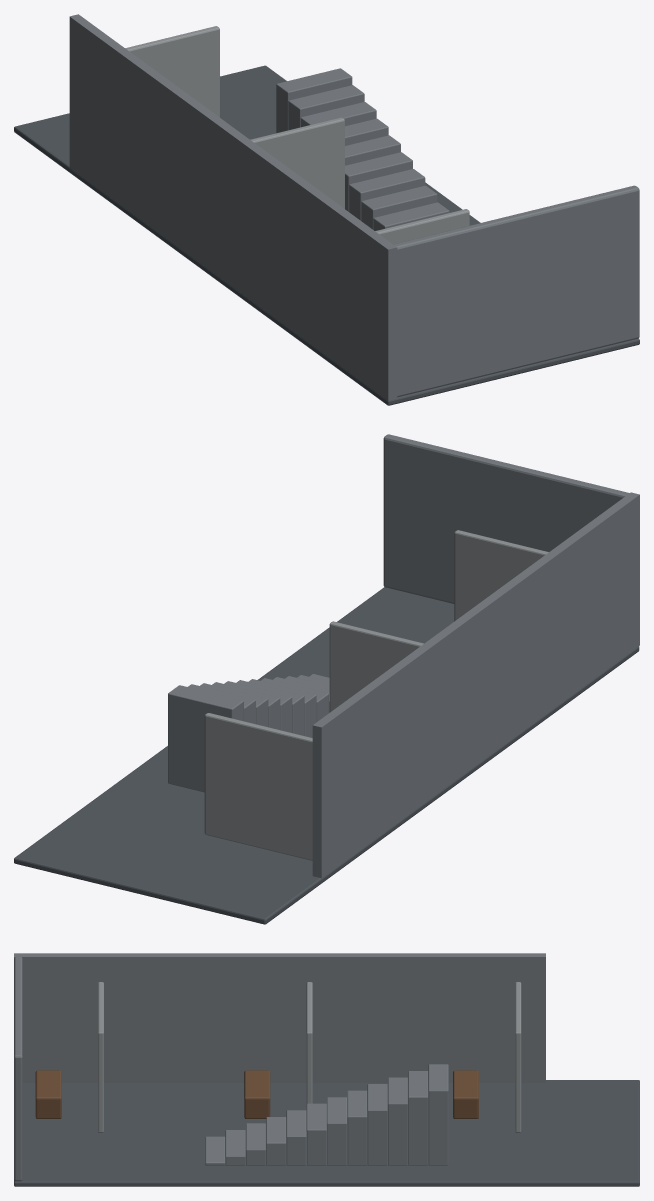
File: north-wing.glb
3 views of the same model, one above another, from view 1: azimuth 30°, elevation 25°; view 2: azimuth 150°, elevation 25°; view 3: azimuth 270°, elevation 25° (orthographic). The views are drawn at different scales.
Visible parts, largest first — view 1: VIS_NORTH_WING_OUTER_WALL_B, VIS_NORTH_WING_FRONT_WALL, VIS_NORTH_WING_FLOOR, VIS_NORTH_WING_ROOM_DIVIDER_-9, VIS_NORTH_WING_ROOM_DIVIDER_-21, NO_SHADOW_NORTH_WING_STAIR_00, NO_SHADOW_NORTH_WING_STAIR_06, NO_SHADOW_NORTH_WING_STAIR_01, NO_SHADOW_NORTH_WING_STAIR_07, VIS_NORTH_WING_ROOM_DIVIDER_3, NO_SHADOW_NORTH_WING_STAIR_05, NO_SHADOW_NORTH_WING_STAIR_04 (+3 smaller); view 2: VIS_NORTH_WING_OUTER_WALL_B, VIS_NORTH_WING_FLOOR, VIS_NORTH_WING_FRONT_WALL, VIS_NORTH_WING_ROOM_DIVIDER_-21, NO_SHADOW_NORTH_WING_STAIR_00, VIS_NORTH_WING_ROOM_DIVIDER_-9, VIS_NORTH_WING_ROOM_DIVIDER_3, NO_SHADOW_NORTH_WING_STAIR_05, NO_SHADOW_NORTH_WING_STAIR_06, NO_SHADOW_NORTH_WING_STAIR_04, NO_SHADOW_NORTH_WING_STAIR_03; view 3: VIS_NORTH_WING_OUTER_WALL_B, VIS_NORTH_WING_FLOOR, NO_SHADOW_NORTH_WING_STAIR_00, VIS_NORTH_WING_FRONT_WALL, NO_SHADOW_NORTH_WING_STAIR_01, NO_SHADOW_NORTH_WING_STAIR_02, NO_SHADOW_NORTH_WING_STAIR_03, NO_SHADOW_NORTH_WING_STAIR_04, NO_SHADOW_NORTH_WING_STAIR_05, VIS_NORTH_WING_TABLE_3, VIS_NORTH_WING_TABLE_-9, VIS_NORTH_WING_TABLE_-21 (+9 smaller).
Boxes of the visible parts, x1,y1,x2,y2 form: VIS_NORTH_WING_OUTER_WALL_B: (69,14,397,400); VIS_NORTH_WING_FRONT_WALL: (384,185,639,397); VIS_NORTH_WING_FLOOR: (14,65,639,405); VIS_NORTH_WING_ROOM_DIVIDER_-9: (250,117,344,208); VIS_NORTH_WING_ROOM_DIVIDER_-21: (125,26,219,117); NO_SHADOW_NORTH_WING_STAIR_00: (276,68,352,133); NO_SHADOW_NORTH_WING_STAIR_06: (349,169,425,220); NO_SHADOW_NORTH_WING_STAIR_01: (288,85,364,130); NO_SHADOW_NORTH_WING_STAIR_07: (361,185,437,229); VIS_NORTH_WING_ROOM_DIVIDER_3: (375,209,469,244); NO_SHADOW_NORTH_WING_STAIR_05: (345,152,412,211); NO_SHADOW_NORTH_WING_STAIR_04: (345,135,400,165); VIS_NORTH_WING_OUTER_WALL_B: (312,492,639,878); VIS_NORTH_WING_FLOOR: (14,587,639,924); VIS_NORTH_WING_FRONT_WALL: (383,434,638,643); VIS_NORTH_WING_ROOM_DIVIDER_-21: (204,713,312,860); NO_SHADOW_NORTH_WING_STAIR_00: (168,685,243,792); VIS_NORTH_WING_ROOM_DIVIDER_-9: (329,621,423,712); VIS_NORTH_WING_ROOM_DIVIDER_3: (454,530,548,621); NO_SHADOW_NORTH_WING_STAIR_05: (236,680,304,735); NO_SHADOW_NORTH_WING_STAIR_06: (248,679,316,737); NO_SHADOW_NORTH_WING_STAIR_04: (224,681,292,732); NO_SHADOW_NORTH_WING_STAIR_03: (212,682,280,729); VIS_NORTH_WING_OUTER_WALL_B: (14,953,545,1082); VIS_NORTH_WING_FLOOR: (14,1080,639,1186); NO_SHADOW_NORTH_WING_STAIR_00: (428,1064,448,1165); VIS_NORTH_WING_FRONT_WALL: (14,954,22,1181); NO_SHADOW_NORTH_WING_STAIR_01: (408,1071,428,1165); NO_SHADOW_NORTH_WING_STAIR_02: (388,1077,407,1165); NO_SHADOW_NORTH_WING_STAIR_03: (367,1084,387,1165); NO_SHADOW_NORTH_WING_STAIR_04: (347,1090,367,1165); NO_SHADOW_NORTH_WING_STAIR_05: (327,1097,346,1165); VIS_NORTH_WING_TABLE_3: (35,1070,61,1118); VIS_NORTH_WING_TABLE_-9: (244,1070,270,1118); VIS_NORTH_WING_TABLE_-21: (453,1070,478,1118).
Size of the model in its own units: 14 by 8.32 by 36.
